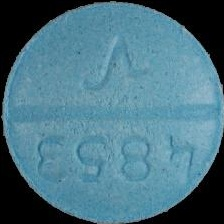63629-1354: (0, 0, 224, 224)
